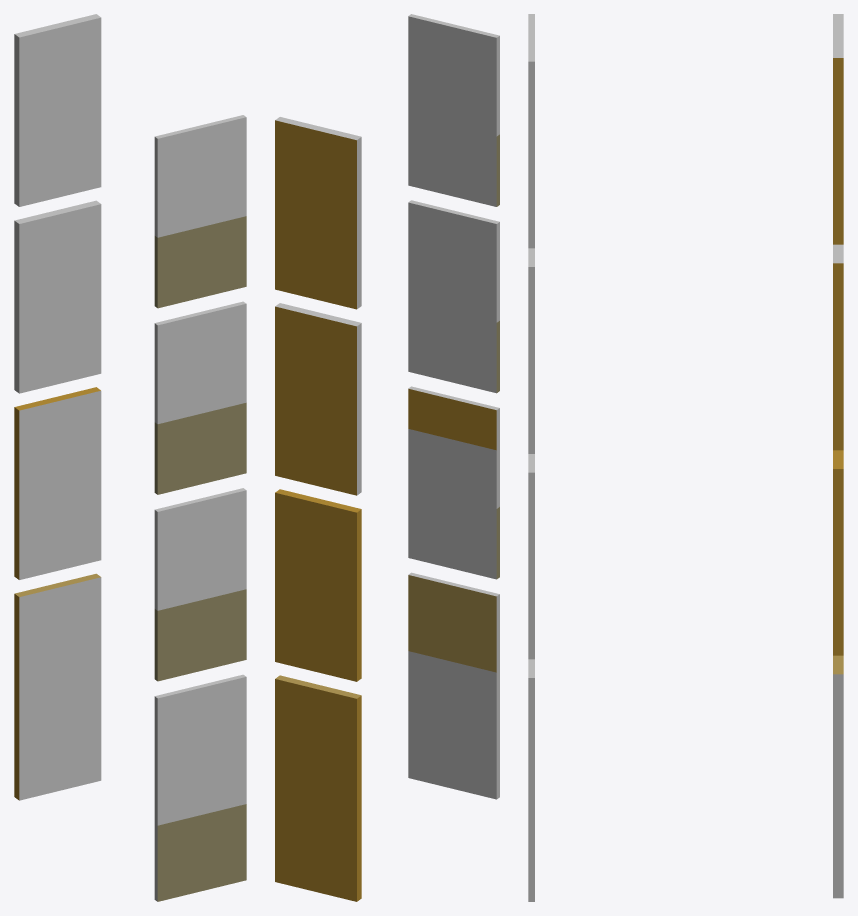
Rendered from bloque_trasero_2.obj.
The picture shows the model from 3 angles, left to right: view 1: azimuth 30°, elevation 25°; view 2: azimuth 150°, elevation 25°; view 3: azimuth 270°, elevation 25°; orthographic projection. The views are drawn at different scales.
Parts seen in each view (by area): view 1: PISO1_Cube.016; view 2: PISO1_Cube.016; view 3: PISO1_Cube.016.
Boxes of the visible parts, box(x1,y1,x2,y2) form: PISO1_Cube.016: box(14, 14, 246, 901); PISO1_Cube.016: box(275, 14, 499, 901); PISO1_Cube.016: box(528, 14, 843, 901).
Size of the model in its own units: 2.74 by 22.5 by 7.66.
